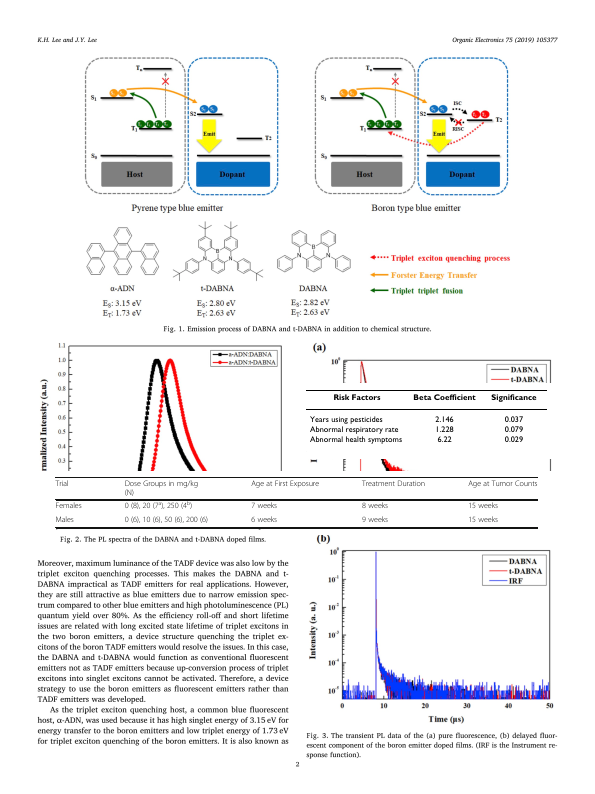borderless: (54, 476, 537, 527), (304, 388, 548, 453)
cell: (124, 480, 199, 498), (309, 435, 403, 445), (309, 425, 399, 435), (124, 516, 209, 526), (124, 500, 193, 512), (309, 415, 383, 424), (467, 480, 538, 489), (250, 480, 320, 489), (361, 480, 426, 489), (412, 393, 476, 402), (332, 393, 381, 402), (490, 393, 537, 402), (467, 502, 499, 512), (467, 516, 499, 526), (250, 502, 278, 512), (361, 502, 389, 512), (250, 516, 278, 526), (361, 516, 389, 526), (55, 502, 82, 512), (503, 425, 524, 435), (503, 435, 524, 445), (54, 516, 75, 526), (434, 425, 454, 435), (503, 415, 524, 424), (434, 415, 454, 424), (436, 435, 452, 445), (55, 480, 69, 489)
